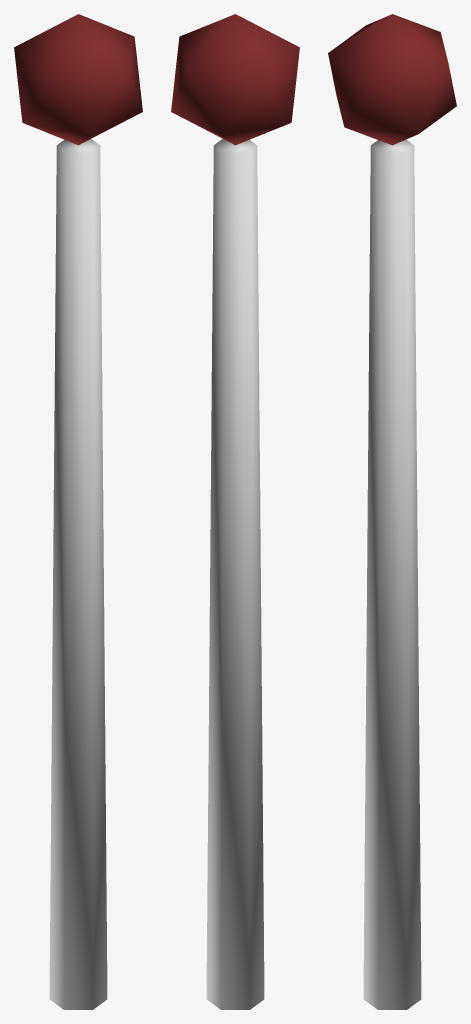
Rendered from bat_scepter.glb.
3 renders of one model, left to right at view 1: azimuth 30°, elevation 25°; view 2: azimuth 150°, elevation 25°; view 3: azimuth 330°, elevation 25°, orthographic.
Visible parts, largest first — view 1: bat_scepter_v0; view 2: bat_scepter_v0; view 3: bat_scepter_v0.
Part boxes in pixels (x1,y1,x2,y2): bat_scepter_v0: (14,14,142,1009); bat_scepter_v0: (171,14,299,1009); bat_scepter_v0: (328,14,456,1009).
Size of the model in its own units: 0.0716 by 0.6 by 0.0681.
